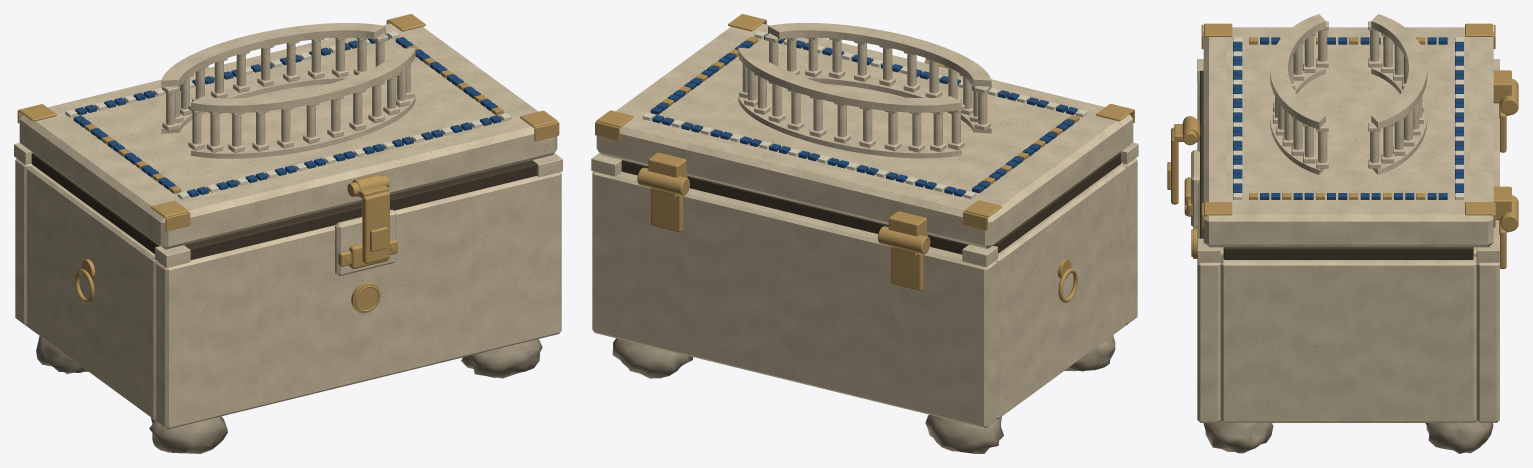
File: vatican-city.glb
3 views of the same model, side by side, from view 1: azimuth 30°, elevation 25°; view 2: azimuth 150°, elevation 25°; view 3: azimuth 270°, elevation 25° (orthographic).
Visible parts, largest first — view 1: Travertine / long wall, Lid / polished slab, Travertine / end wall, Bronze seam / long, Arcade / cornice 1, Arcade / cornice 0, Arcade / foundation 1, Granite foot, Granite foot.002, Travertine / long wall.001, Bronze seam / side, Latch / lifting hasp (+5 smaller); view 2: Travertine / long wall.001, Lid / polished slab, Travertine / end wall, Arcade / cornice 0, Arcade / cornice 1, Bronze seam / long.001, Arcade / foundation 0, Travertine / long wall, Granite foot.001, Granite foot.003, Bronze seam / side, Arcade / foundation 1 (+9 smaller); view 3: Lid / polished slab, Travertine / end wall.001, Travertine / long wall.001, Travertine / long wall, Bronze seam / side.001, Arcade / cornice 0, Arcade / cornice 1, Granite foot.002, Granite foot.003, Arcade / foundation 0, Arcade / foundation 1, Bronze seam / long (+12 smaller).
Part boxes in pixels (<box>): Travertine / long wall: <box>156,172,561,429</box>; Lid / polished slab: <box>19,23,557,249</box>; Travertine / end wall: <box>27,165,157,420</box>; Bronze seam / long: <box>184,160,537,259</box>; Arcade / cornice 1: <box>191,48,415,112</box>; Arcade / cornice 0: <box>161,23,385,87</box>; Arcade / foundation 1: <box>191,96,415,158</box>; Granite foot: <box>149,416,227,453</box>; Granite foot.002: <box>461,339,542,378</box>; Travertine / long wall.001: <box>15,158,32,326</box>; Bronze seam / side: <box>31,153,159,253</box>; Latch / lifting hasp: <box>362,191,389,263</box>; Travertine / long wall.001: <box>592,171,996,428</box>; Lid / polished slab: <box>596,23,1133,248</box>; Travertine / end wall: <box>995,164,1125,419</box>; Arcade / cornice 0: <box>738,47,961,112</box>; Arcade / cornice 1: <box>768,23,991,87</box>; Bronze seam / long.001: <box>621,160,968,254</box>; Arcade / foundation 0: <box>738,95,961,158</box>; Travertine / long wall: <box>1120,158,1137,325</box>; Granite foot.001: <box>925,415,1003,453</box>; Granite foot.003: <box>612,338,692,378</box>; Bronze seam / side: <box>993,152,1120,253</box>; Arcade / foundation 1: <box>798,70,991,133</box>; Lid / polished slab: <box>1203,27,1493,247</box>; Travertine / end wall.001: <box>1220,255,1476,422</box>; Travertine / long wall.001: <box>1476,103,1499,422</box>; Travertine / long wall: <box>1197,82,1220,422</box>; Bronze seam / side.001: <box>1223,247,1473,259</box>; Arcade / cornice 0: <box>1371,14,1427,129</box>; Arcade / cornice 1: <box>1270,14,1325,129</box>; Granite foot.002: <box>1203,421,1273,453</box>; Granite foot.003: <box>1425,421,1493,453</box>; Arcade / foundation 0: <box>1371,62,1427,174</box>; Arcade / foundation 1: <box>1270,62,1325,174</box>; Bronze seam / long: <box>1200,70,1203,238</box>.
Bounding box in the file's own units: 3.79 × 2.76 × 2.88.
Materials: 6 (2 with a texture image).
